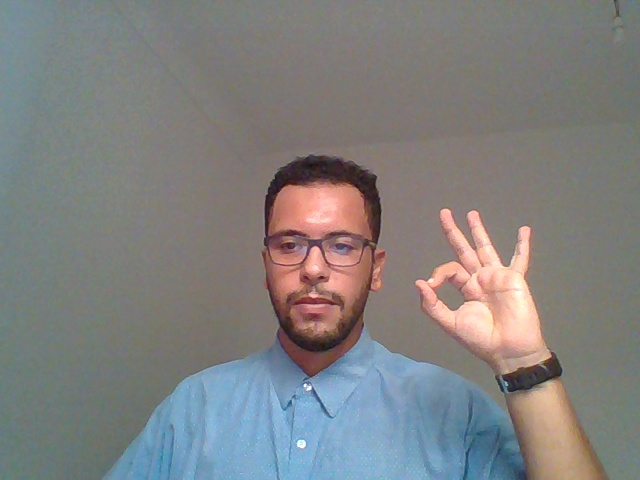okay: (397, 187, 617, 406)
